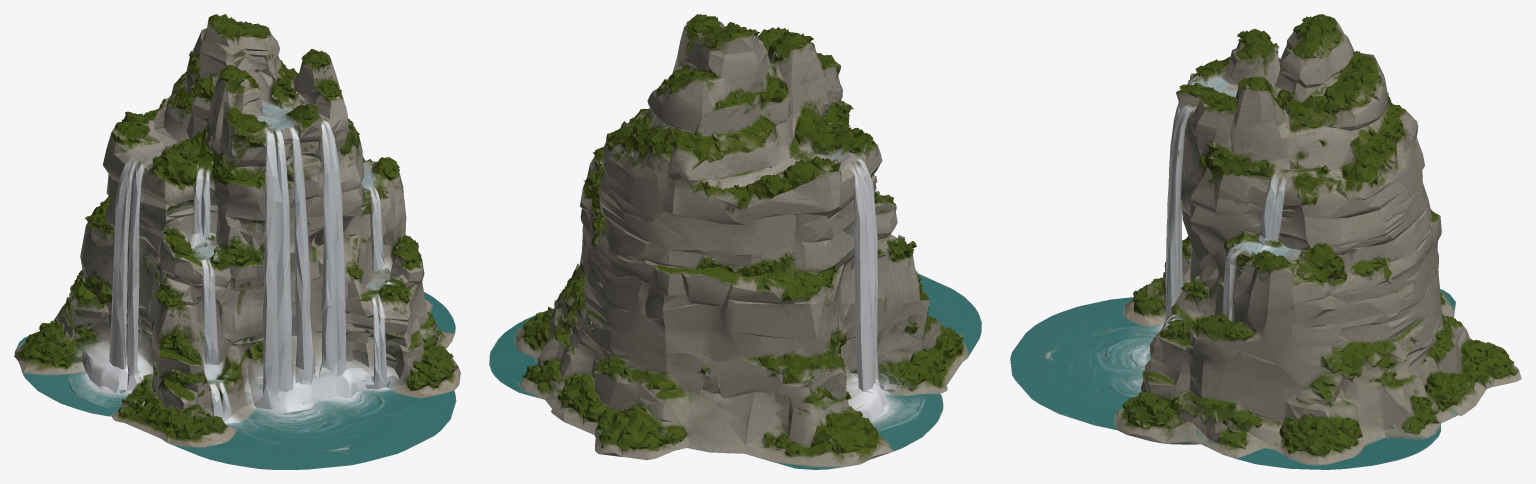
Rendered from veilfall_hero.glb.
The picture shows the model from 3 angles, left to right: view 1: azimuth 30°, elevation 25°; view 2: azimuth 150°, elevation 25°; view 3: azimuth 270°, elevation 25°; orthographic projection. The views are drawn at different scales.
Visible parts, largest first — view 1: Mesh_0; view 2: Mesh_0; view 3: Mesh_0.
Part boxes in pixels (bbox=[...]): Mesh_0: bbox=[14, 14, 460, 469]; Mesh_0: bbox=[489, 14, 981, 469]; Mesh_0: bbox=[1010, 14, 1521, 469].
Size of the model in its own units: 1.74 by 1.41 by 1.9.
Materials: 1 (1 with a texture image).
